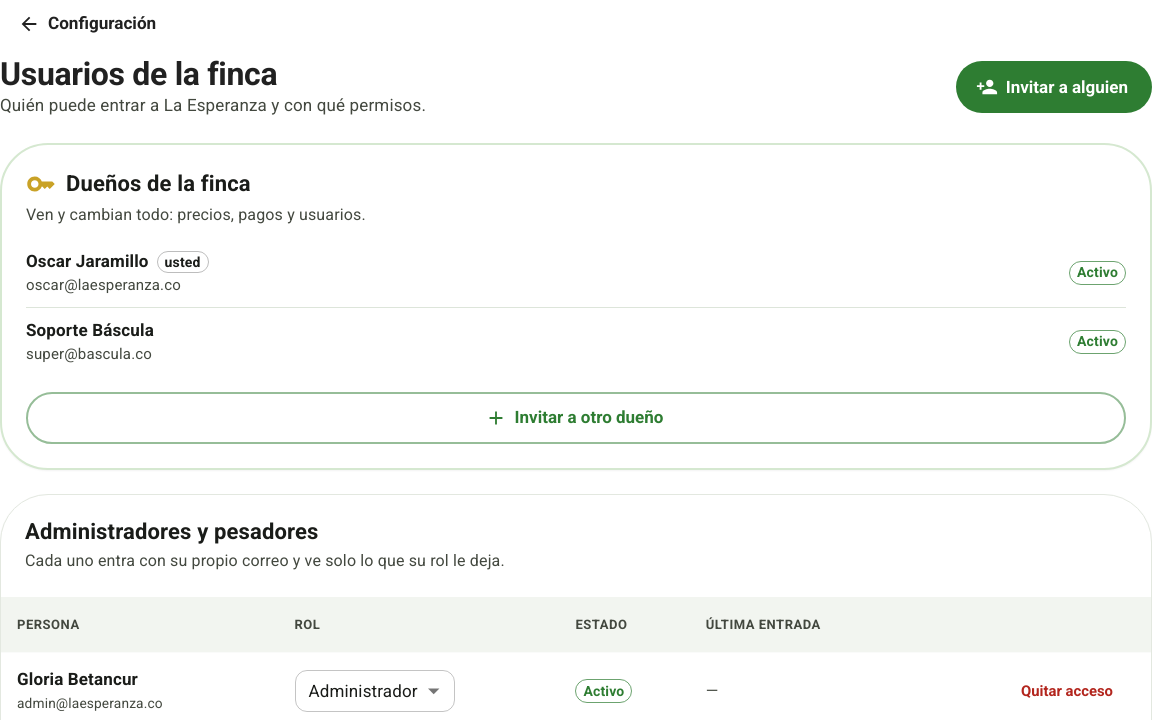
Scenario: an invitation the server turns down › keeps the dialog open with the reason, for the chosen role
expect the text "Gloria Betancur" is shown: met, box [17,669,138,689]
Click the button "Invitar a alguien".
click(1054, 87)  # box [956,61,1151,113]
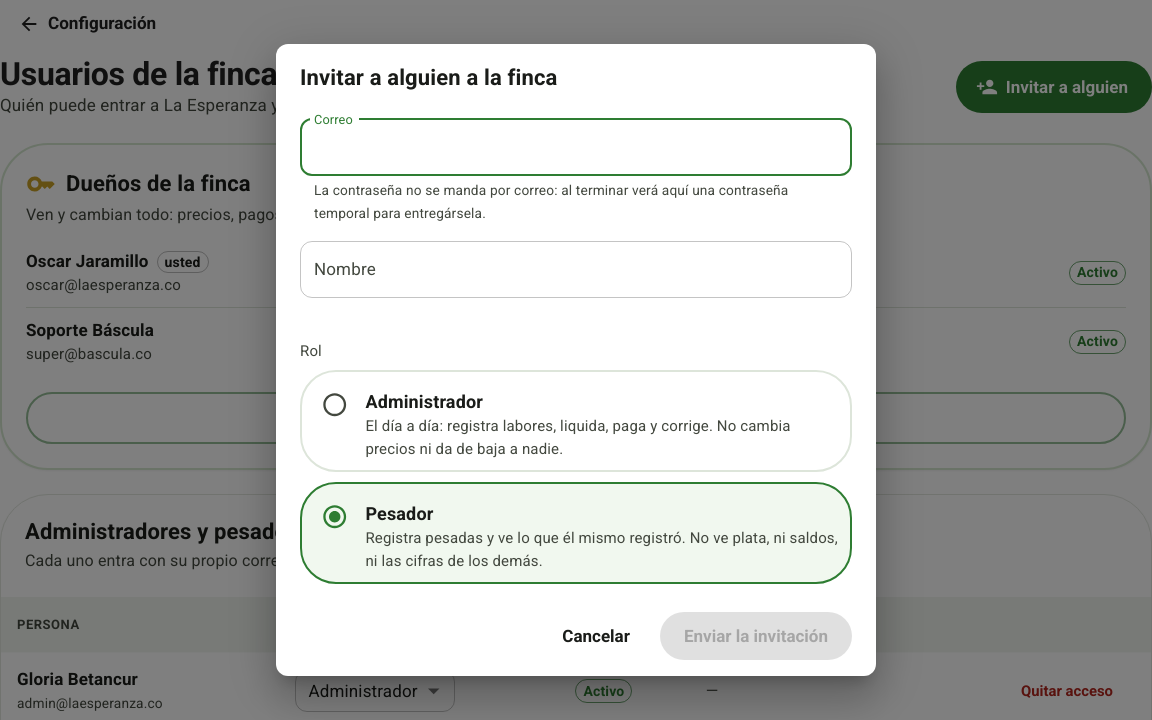
Click the radio button named "Administrador".
click(335, 405)  # box [321,391,348,419]
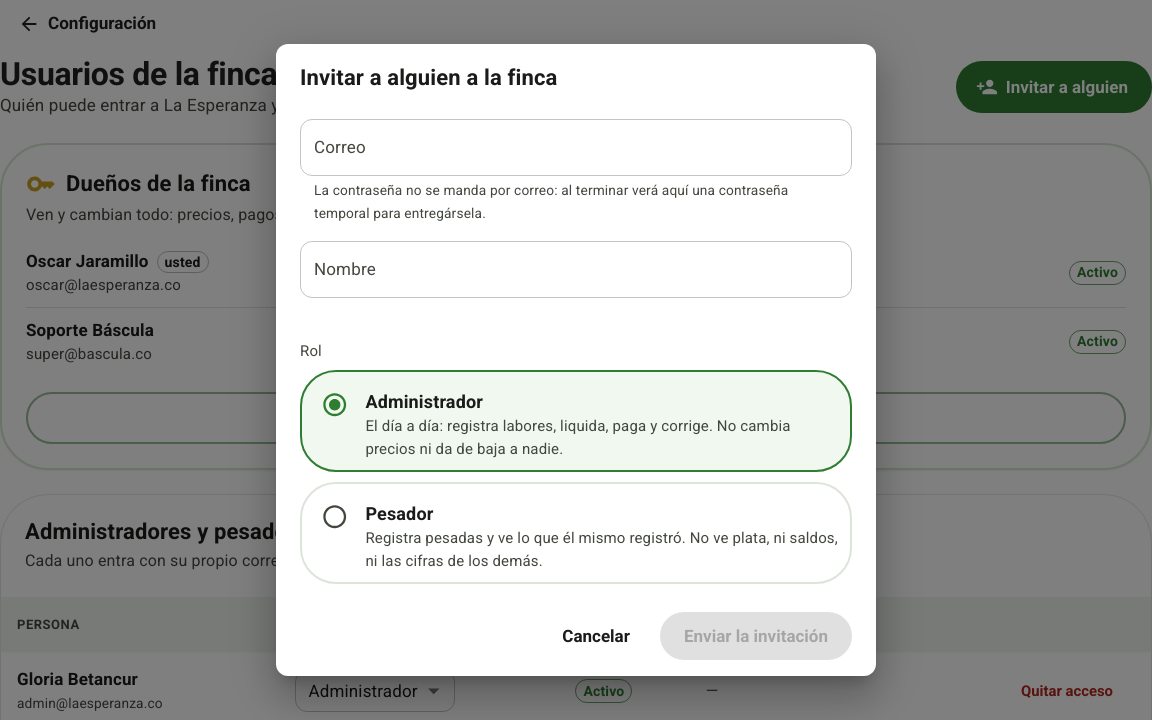
Click the text "Pesador".
click(399, 514)  # box [365,503,433,524]
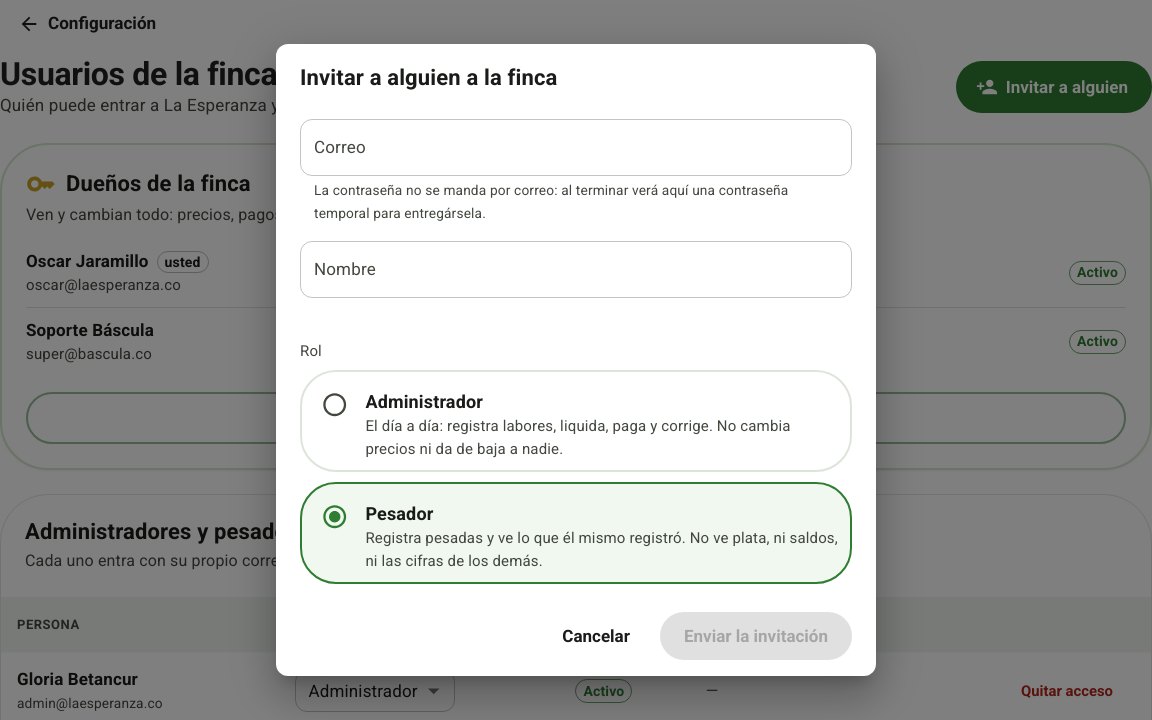
Type "gloria@laesperanza.co" into the field labelled "Correo".
click(576, 148); type("gloria@laesperanza.co")  # box [300,119,852,176]
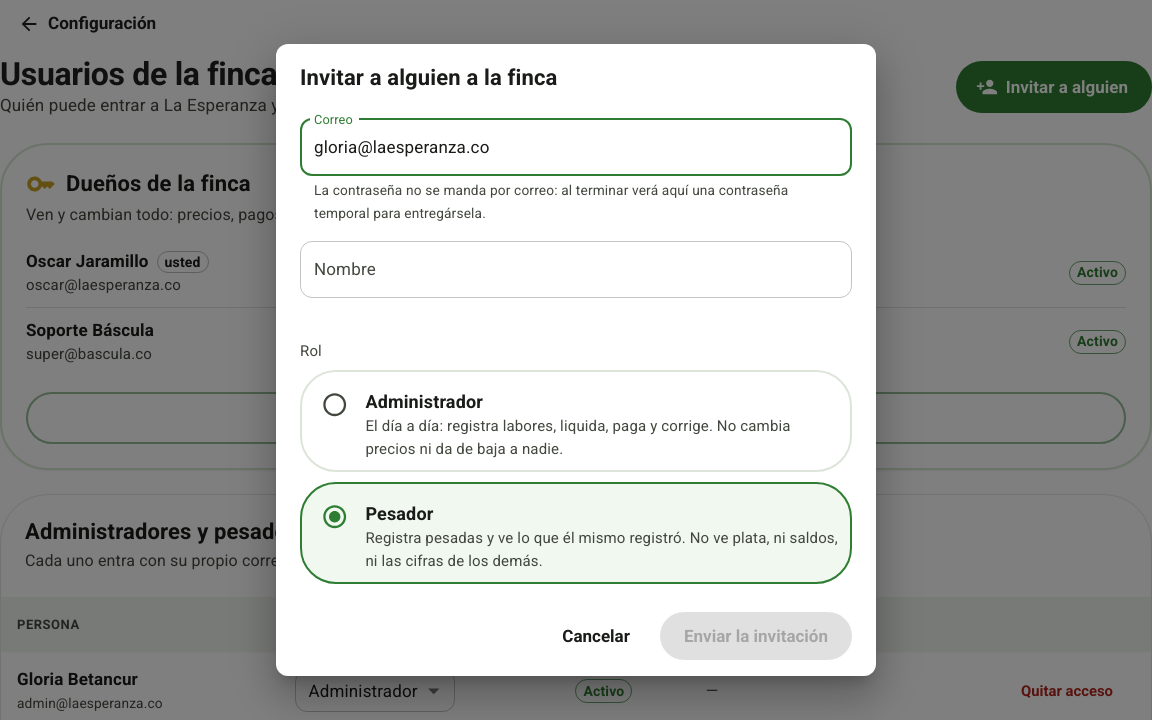
Type "Gloria Otra" into the field labelled "Nombre".
click(576, 269); type("Gloria Otra")  # box [300,241,852,298]
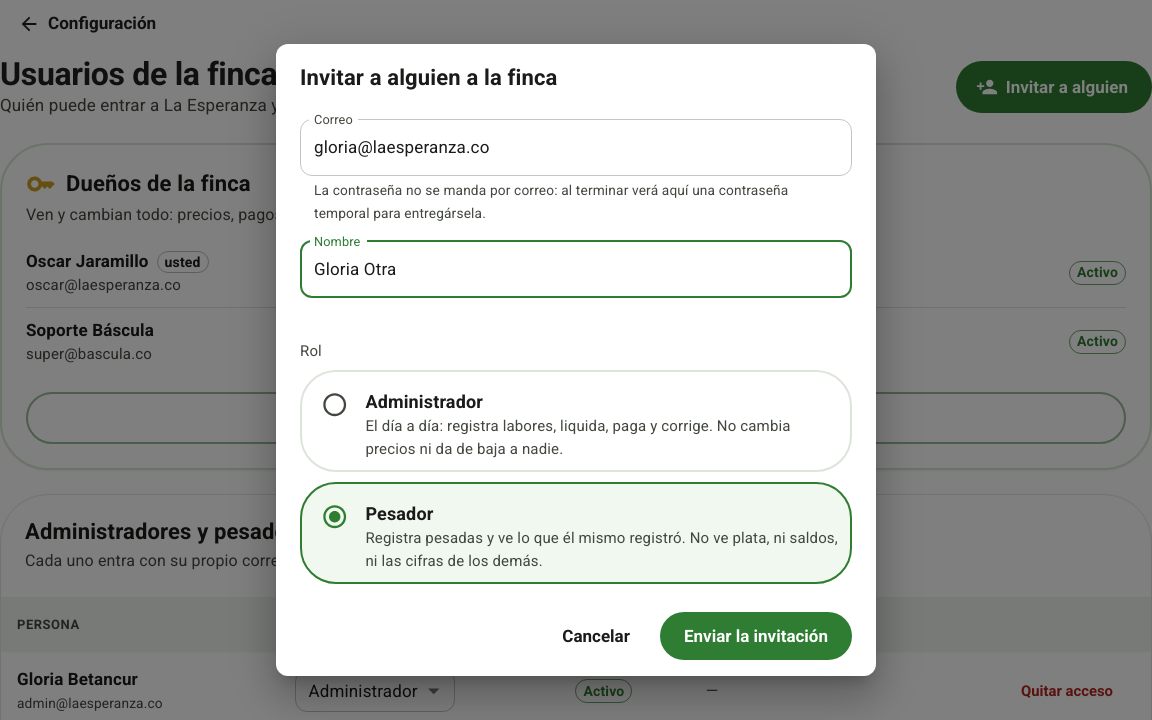
Click the button "Enviar la invitación".
click(756, 636)  # box [660,612,852,660]
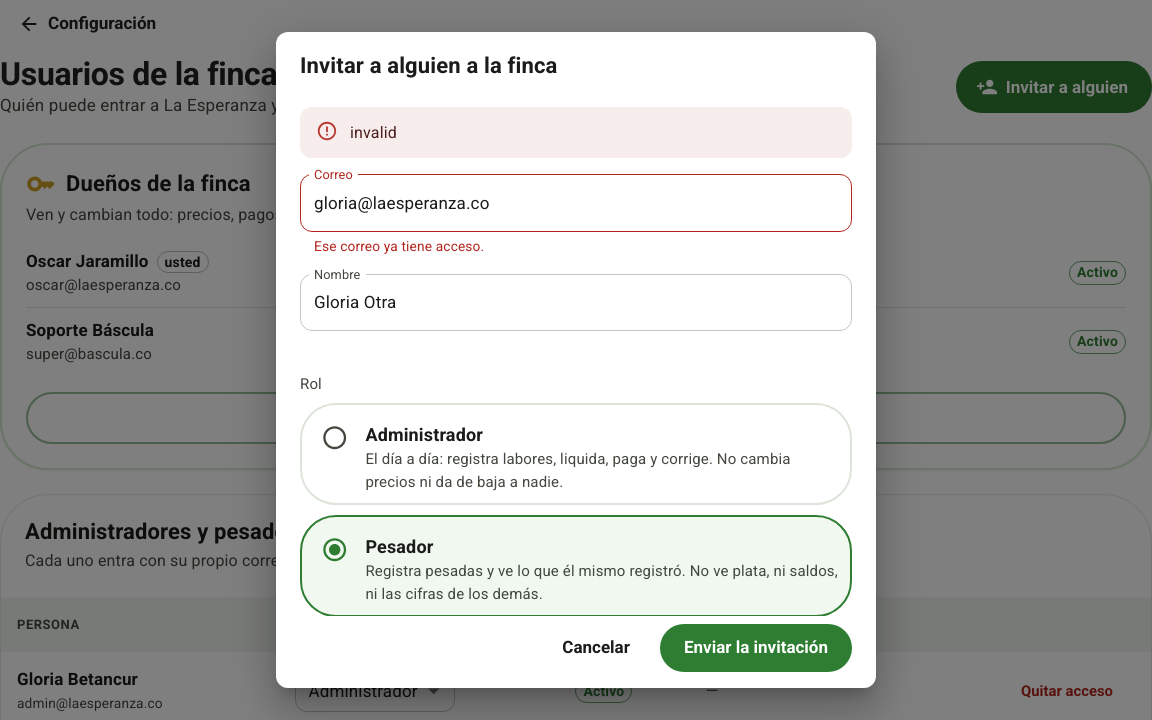
expect the text "Ese correo ya tiene acceso." is shown: met, box [314,238,484,254]
expect the message "invalid" is shown: met, box [300,107,852,158]
